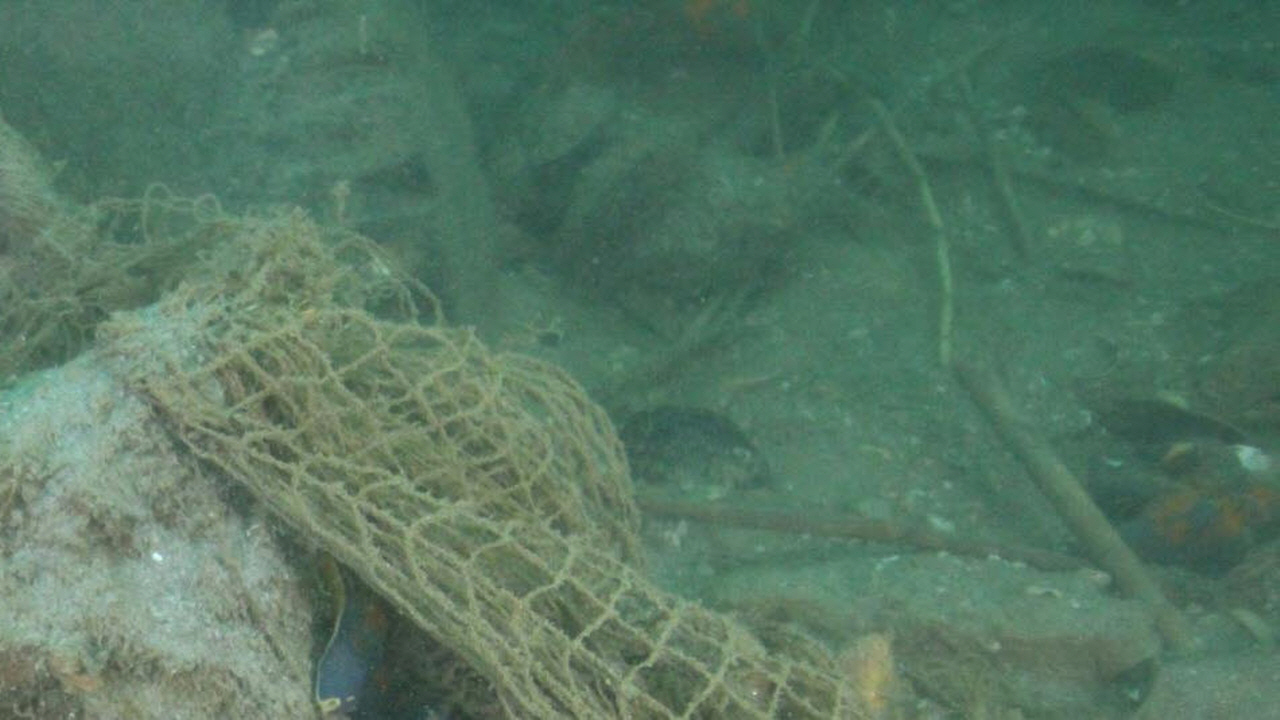fish net: (0, 181, 870, 720)
